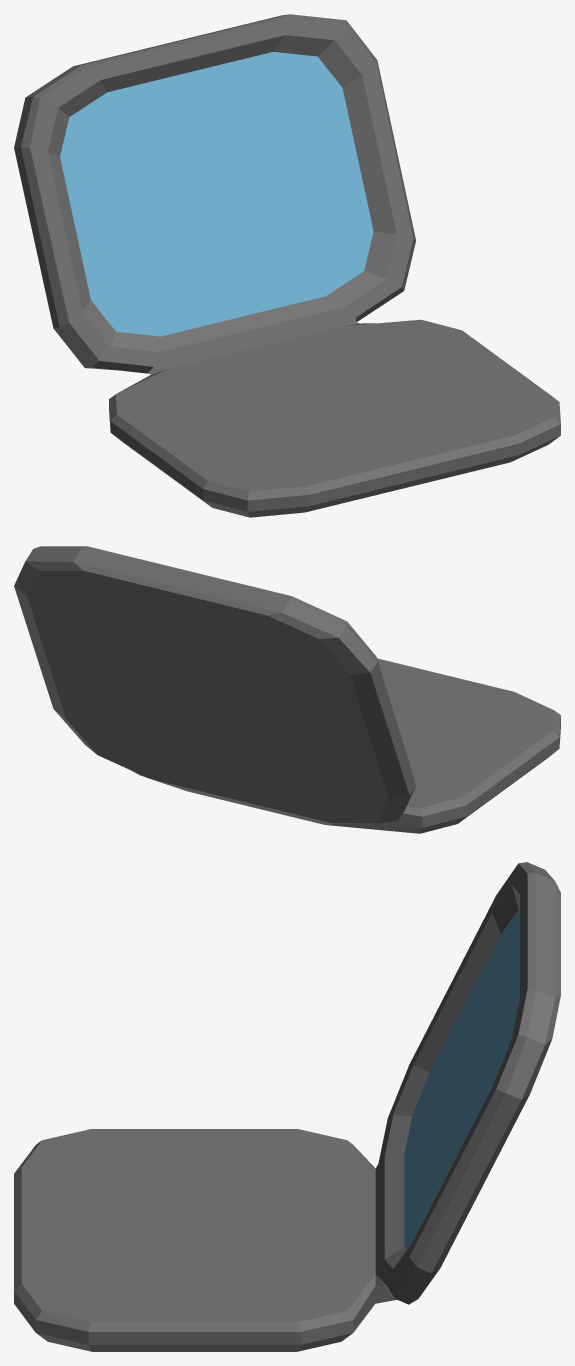
The model's file is Laptop.fbx.
The picture shows the model from 3 angles, top to bottom: view 1: azimuth 30°, elevation 25°; view 2: azimuth 150°, elevation 25°; view 3: azimuth 270°, elevation 25°; orthographic projection. The views are drawn at different scales.
Parts seen in each view (by area): view 1: Laptop; view 2: Laptop; view 3: Laptop.
Part boxes in pixels (box(x1,y1,x2,y2)): Laptop: box(14, 14, 560, 517); Laptop: box(14, 546, 560, 833); Laptop: box(14, 862, 560, 1351).
Bounding box in the file's own units: 0.2545 × 0.1949 × 0.2953.
1 material, 1 textured.
